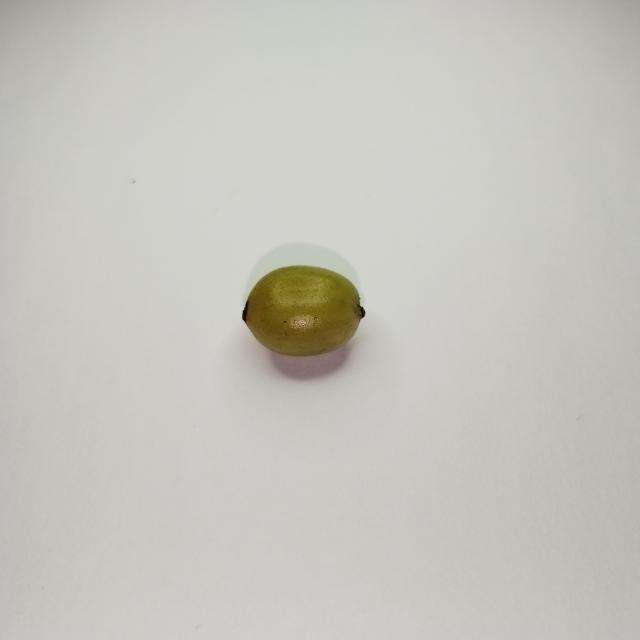Sano: (243, 267, 362, 355)
